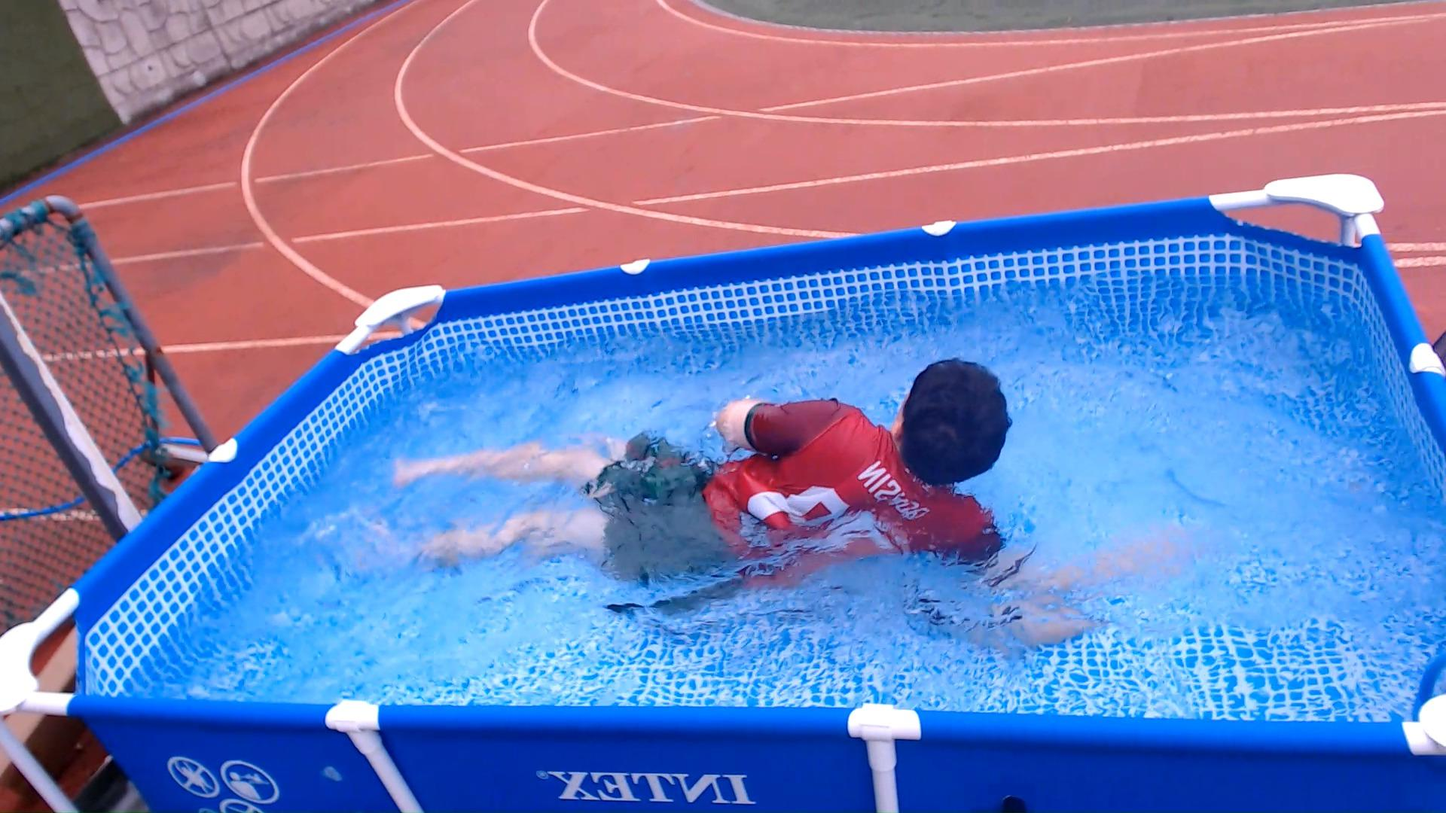Swimming: (362, 274, 1212, 663)
